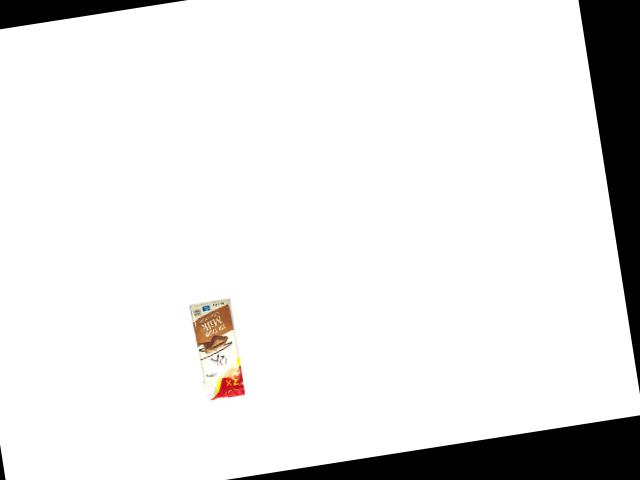chocolate: (187, 300, 248, 403)
